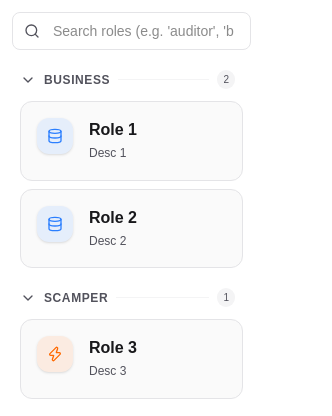
it: RoleSelector Component › filters roles by search term
This screenshot has width=332, height=416.
Expected: the text "Role 1" is shown, 89,118 -> 137,142
Type "scamper" into the field with placeholder "Search roles (e.g. 'auditor', 'black hat')..." at (132, 31), box 12,12 -> 251,50
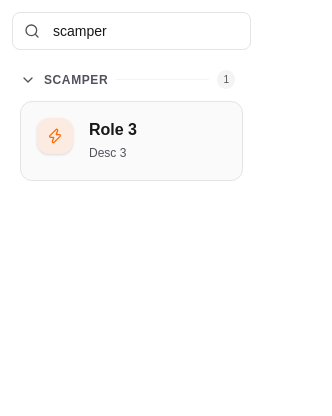
Expected: the text "Role 3" is shown, 89,118 -> 137,142
Expected: the button "Role 1" is gone
